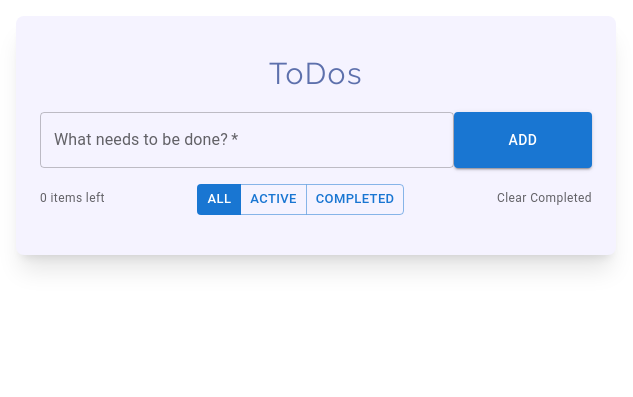
Scenario: App component › filters the list by completed items
In the field: (247, 140) left=40, top=112, right=454, bottom=168, type "New item 1"
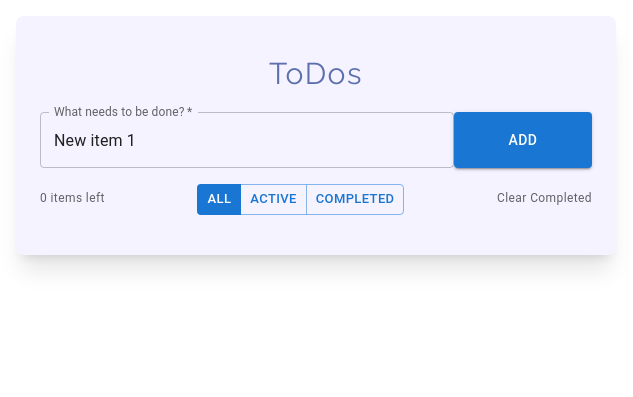
Click the button "Add": (523, 140) left=454, top=112, right=592, bottom=168
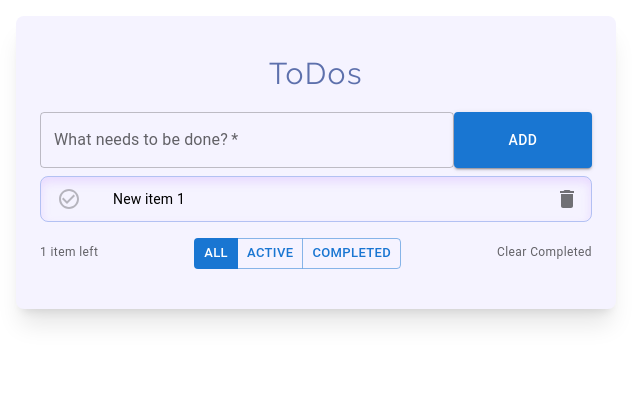
In the field: (247, 140) left=40, top=112, right=454, bottom=168, type "New item 2"
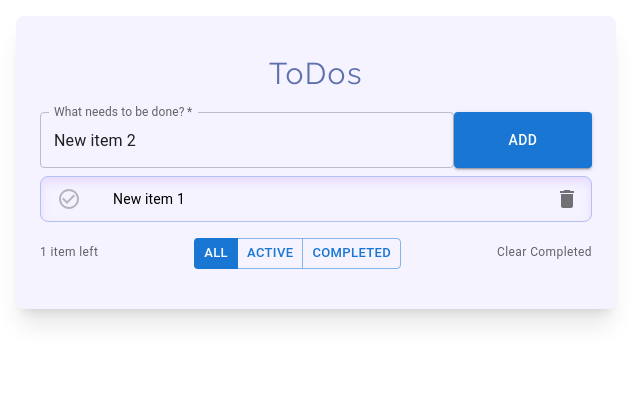
Click the button "Add": (523, 140) left=454, top=112, right=592, bottom=168
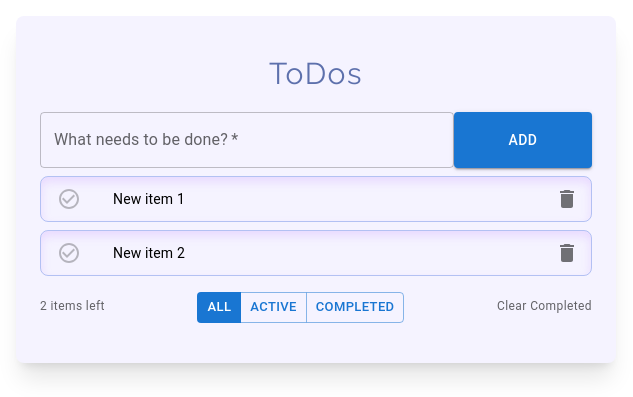
Expected: the text "New item 1" is shown, left=113, top=191, right=185, bottom=207
Expected: the text "New item 2" is shown, left=113, top=245, right=185, bottom=261
Click the 1st icon with test id "CheckCircleOutlineIcon": (69, 199) left=57, top=187, right=81, bottom=211
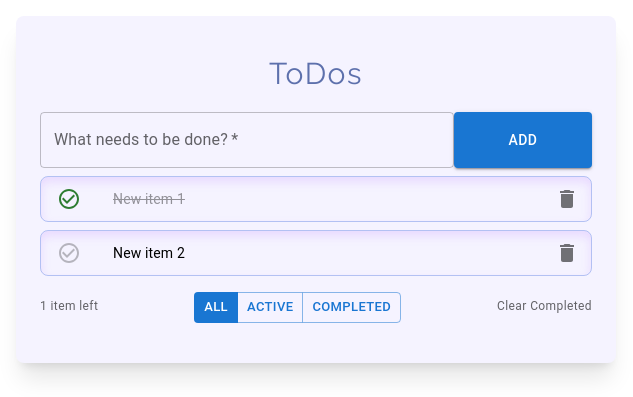
Click the button "COMPLETED": (352, 307) left=302, top=292, right=401, bottom=323
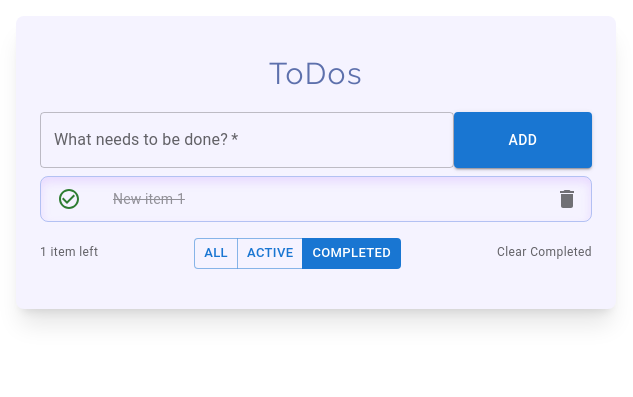
Expected: the list item reads "New item 1", left=113, top=191, right=185, bottom=207
Expected: the text "New item 2" is gone
